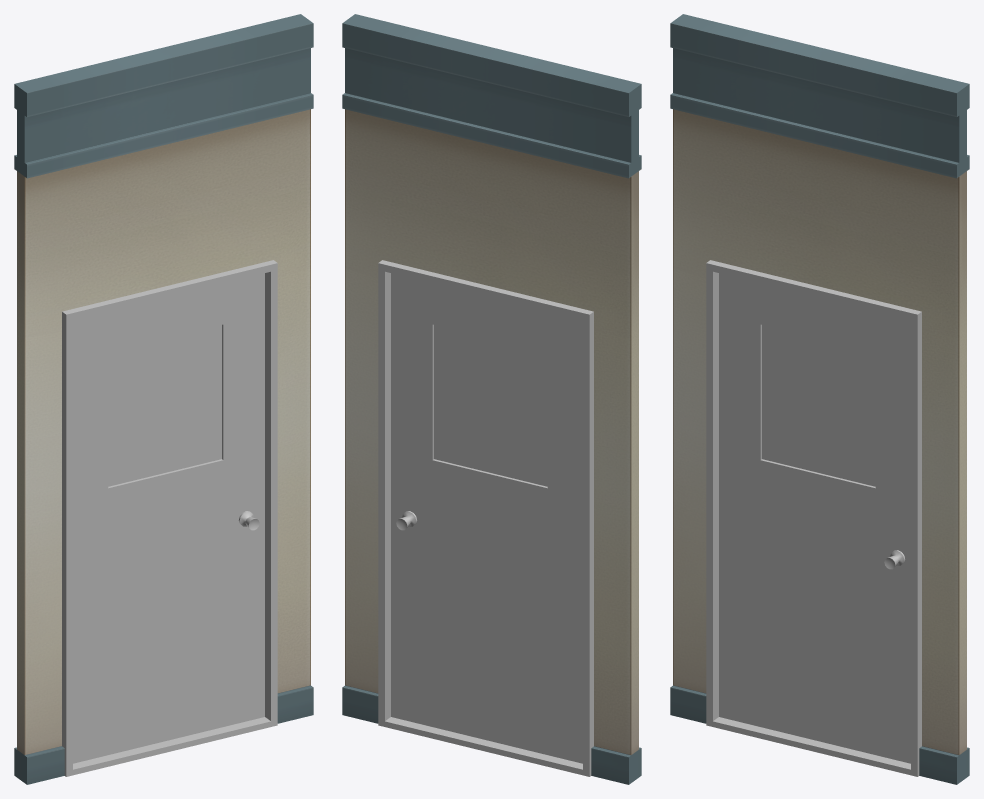
Rendered from KR_Door_02_01.fbx.
3 renders of one model, left to right at view 1: azimuth 30°, elevation 25°; view 2: azimuth 150°, elevation 25°; view 3: azimuth 330°, elevation 25°, orthographic.
Visible parts, largest first — view 1: wall_01, door01, door_frame01, glass_01; view 2: wall_01, door01, door_frame01, glass_02; view 3: wall_01, door01, door_frame01, glass_01.
Boxes of the visible parts, box(x1,y1,x2,y2) form: wall_01: box(14, 14, 313, 784); door01: box(73, 273, 264, 763); door_frame01: box(62, 260, 277, 776); glass_01: box(108, 325, 221, 486); wall_01: box(342, 14, 641, 784); door01: box(391, 273, 582, 763); door_frame01: box(378, 260, 593, 776); glass_02: box(434, 325, 547, 486); wall_01: box(670, 14, 969, 784); door01: box(719, 273, 910, 763); door_frame01: box(706, 260, 921, 776); glass_01: box(762, 325, 875, 486).
Size of the model in its own units: 130 by 300 by 16.
